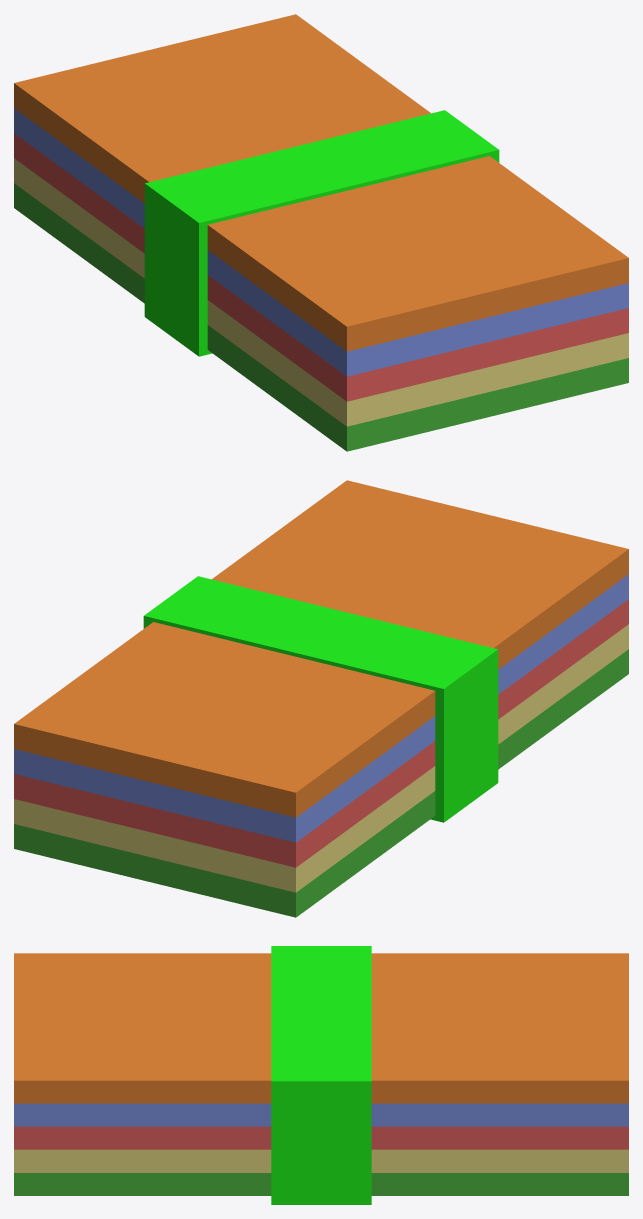
The model's file is money.fbx.
3 views of the same model, one above another, from view 1: azimuth 30°, elevation 25°; view 2: azimuth 150°, elevation 25°; view 3: azimuth 270°, elevation 25° (orthographic). The views are drawn at different scales.
Visible parts, largest first — view 1: Cube; view 2: Cube; view 3: Cube.
Part boxes in pixels (x1,y1,x2,y2): Cube: (14,14,628,451); Cube: (14,480,628,917); Cube: (14,946,628,1204).
Bounding box in the file's own units: 57.16 × 24.33 × 110.
